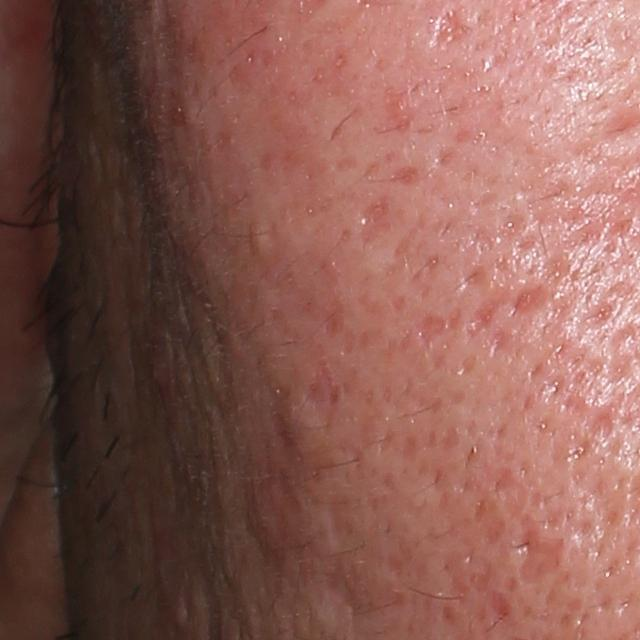atrophic_scar: (512, 514, 566, 587), (460, 288, 510, 348), (360, 195, 409, 252), (323, 564, 370, 614), (427, 2, 473, 51), (577, 402, 619, 447), (508, 278, 549, 322), (481, 585, 516, 625), (412, 313, 445, 349), (391, 163, 426, 188)
